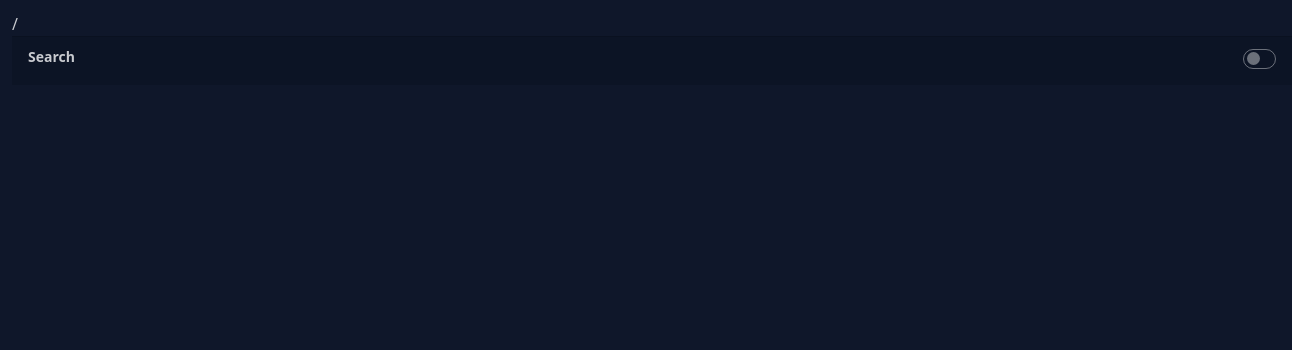
NavSearchSection — the box is a combobox › moves the ACTIVE ROW on Down, and the DOM focus never leaves the input
Later steps or results of the test are not shown.
Click the checkbox labelled "Search".
click(1260, 59)  # box 1243,49 -> 1276,69
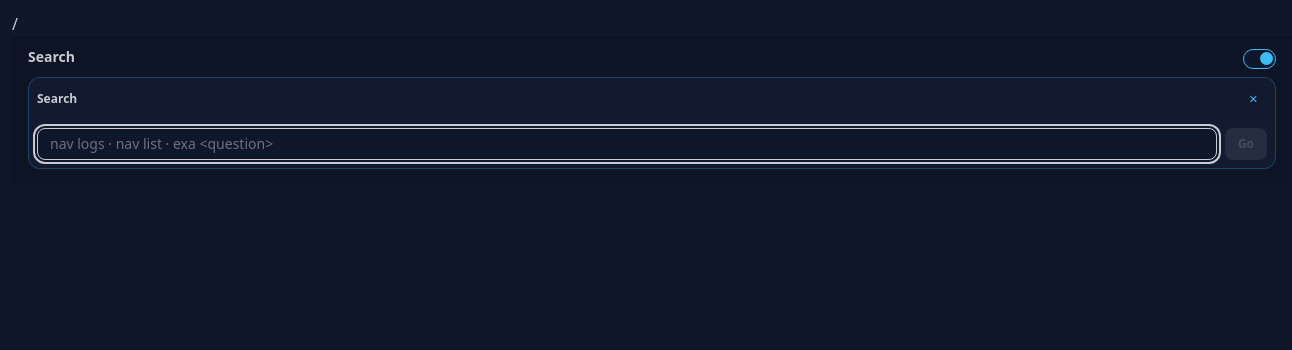
Type "nav list" into the dropdown named "Search commands".
click(627, 144); type("nav list")  # box 37,128 -> 1217,160
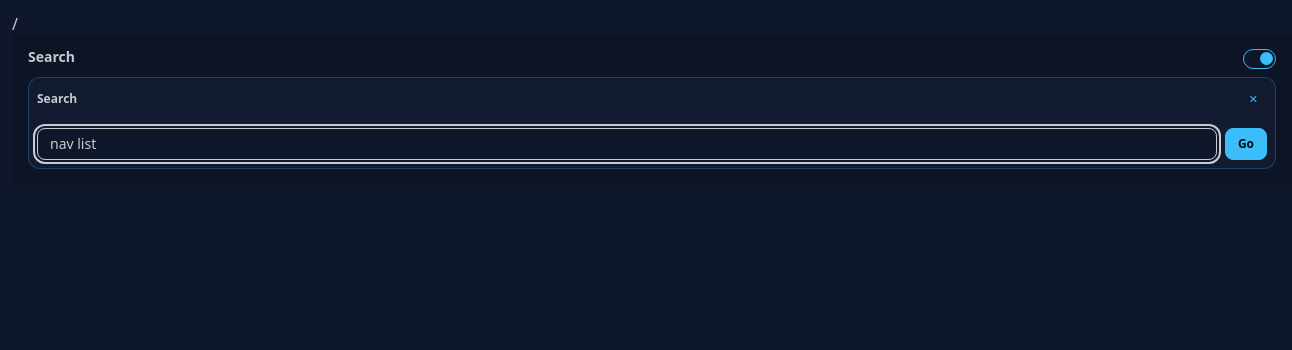
Press Enter in the dropdown named "Search commands", box 37,128 -> 1217,160
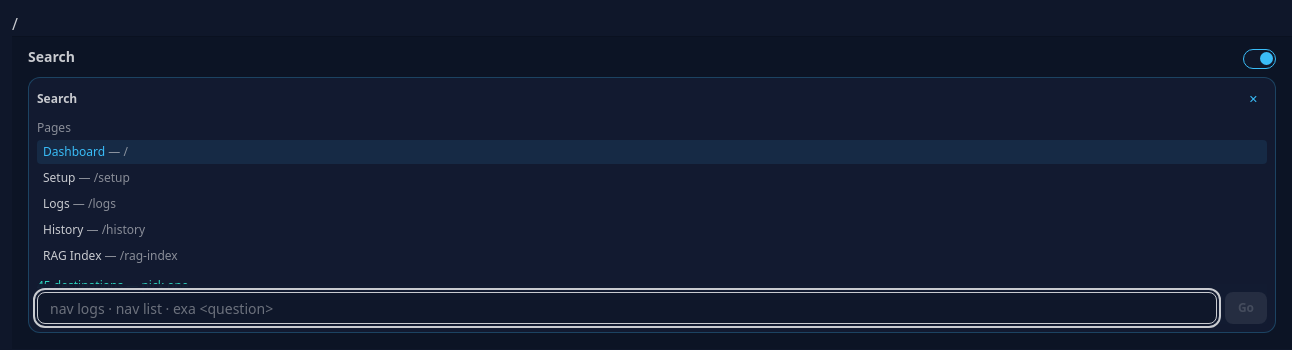
Check: the text "Pages" is shown, box 37,119 -> 71,136
Press ArrowDown in the dropdown named "Search commands", box 37,292 -> 1217,324
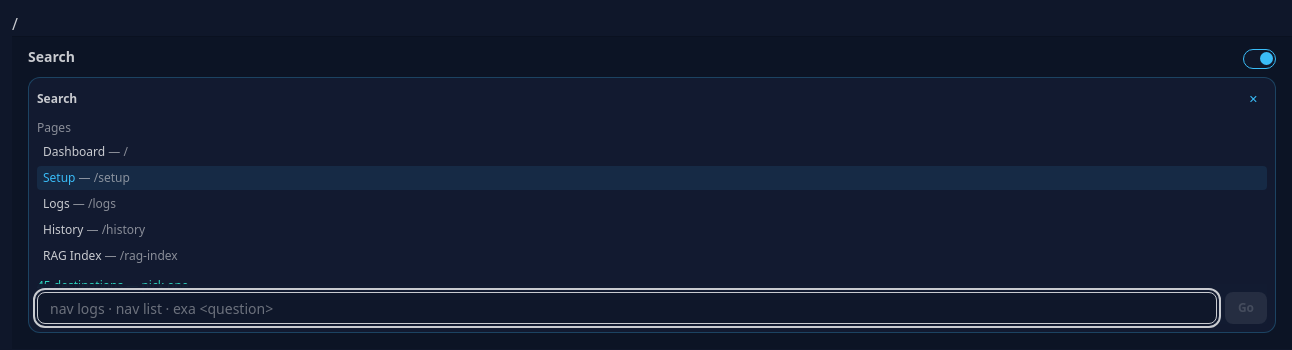
Check: the option "Setup — /setup" has class "bg-primary/10", box 37,166 -> 1267,190
